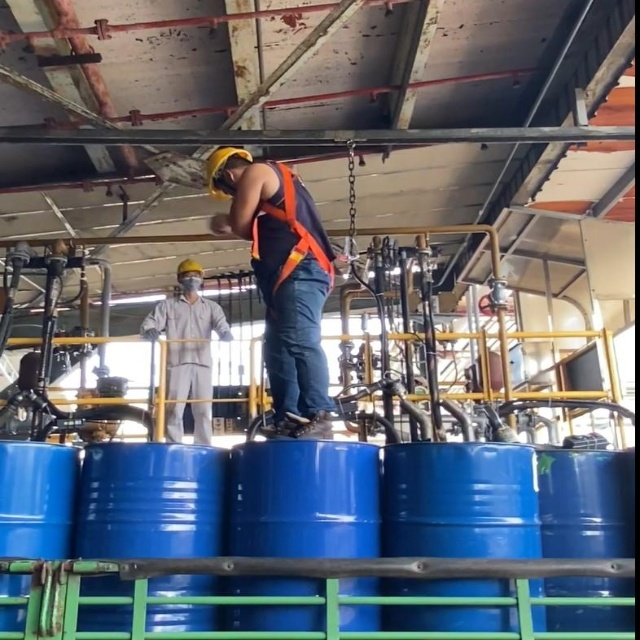Arnes_seguridad: (248, 160, 337, 304)
